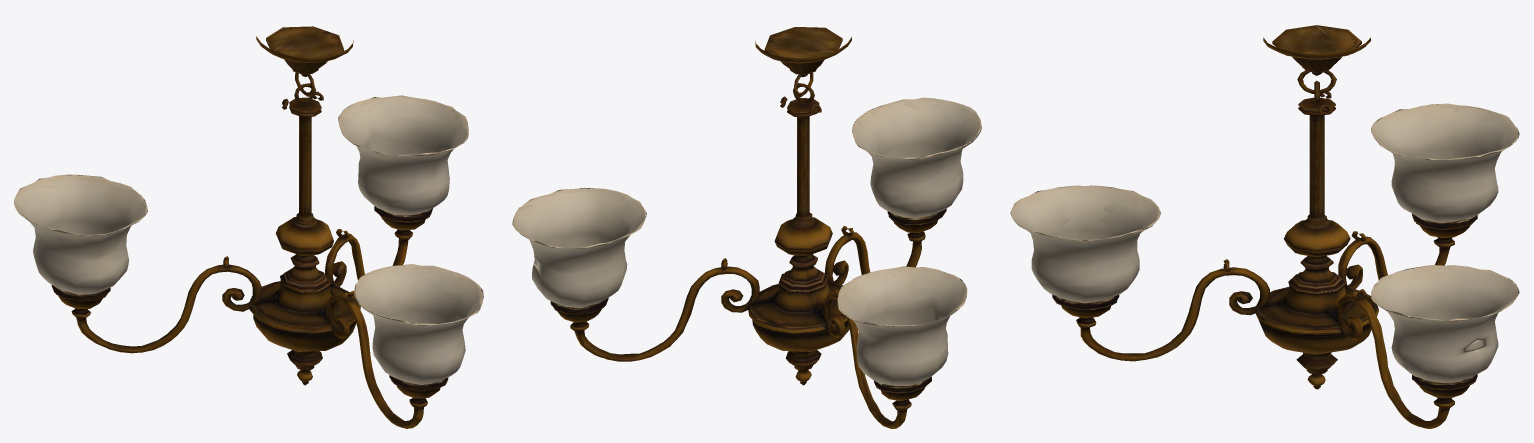
The model's file is lighting-chandelier-three-arm.glb.
The picture shows the model from 3 angles, left to right: view 1: azimuth 30°, elevation 25°; view 2: azimuth 150°, elevation 25°; view 3: azimuth 270°, elevation 25°; orthographic projection.
Parts seen in each view (by area): view 1: tripo_node_abf25cc8-c0fc-494f-b7dd-390c79a8d0b6; view 2: tripo_node_abf25cc8-c0fc-494f-b7dd-390c79a8d0b6; view 3: tripo_node_abf25cc8-c0fc-494f-b7dd-390c79a8d0b6.
Part boxes in pixels (x1=…): tripo_node_abf25cc8-c0fc-494f-b7dd-390c79a8d0b6: x1=14, y1=26, x2=483, y2=428; tripo_node_abf25cc8-c0fc-494f-b7dd-390c79a8d0b6: x1=512, y1=27, x2=981, y2=428; tripo_node_abf25cc8-c0fc-494f-b7dd-390c79a8d0b6: x1=1010, y1=25, x2=1519, y2=428.
Bounding box in the file's own units: 0.65 × 0.5 × 0.65.
1 material, 1 textured.
